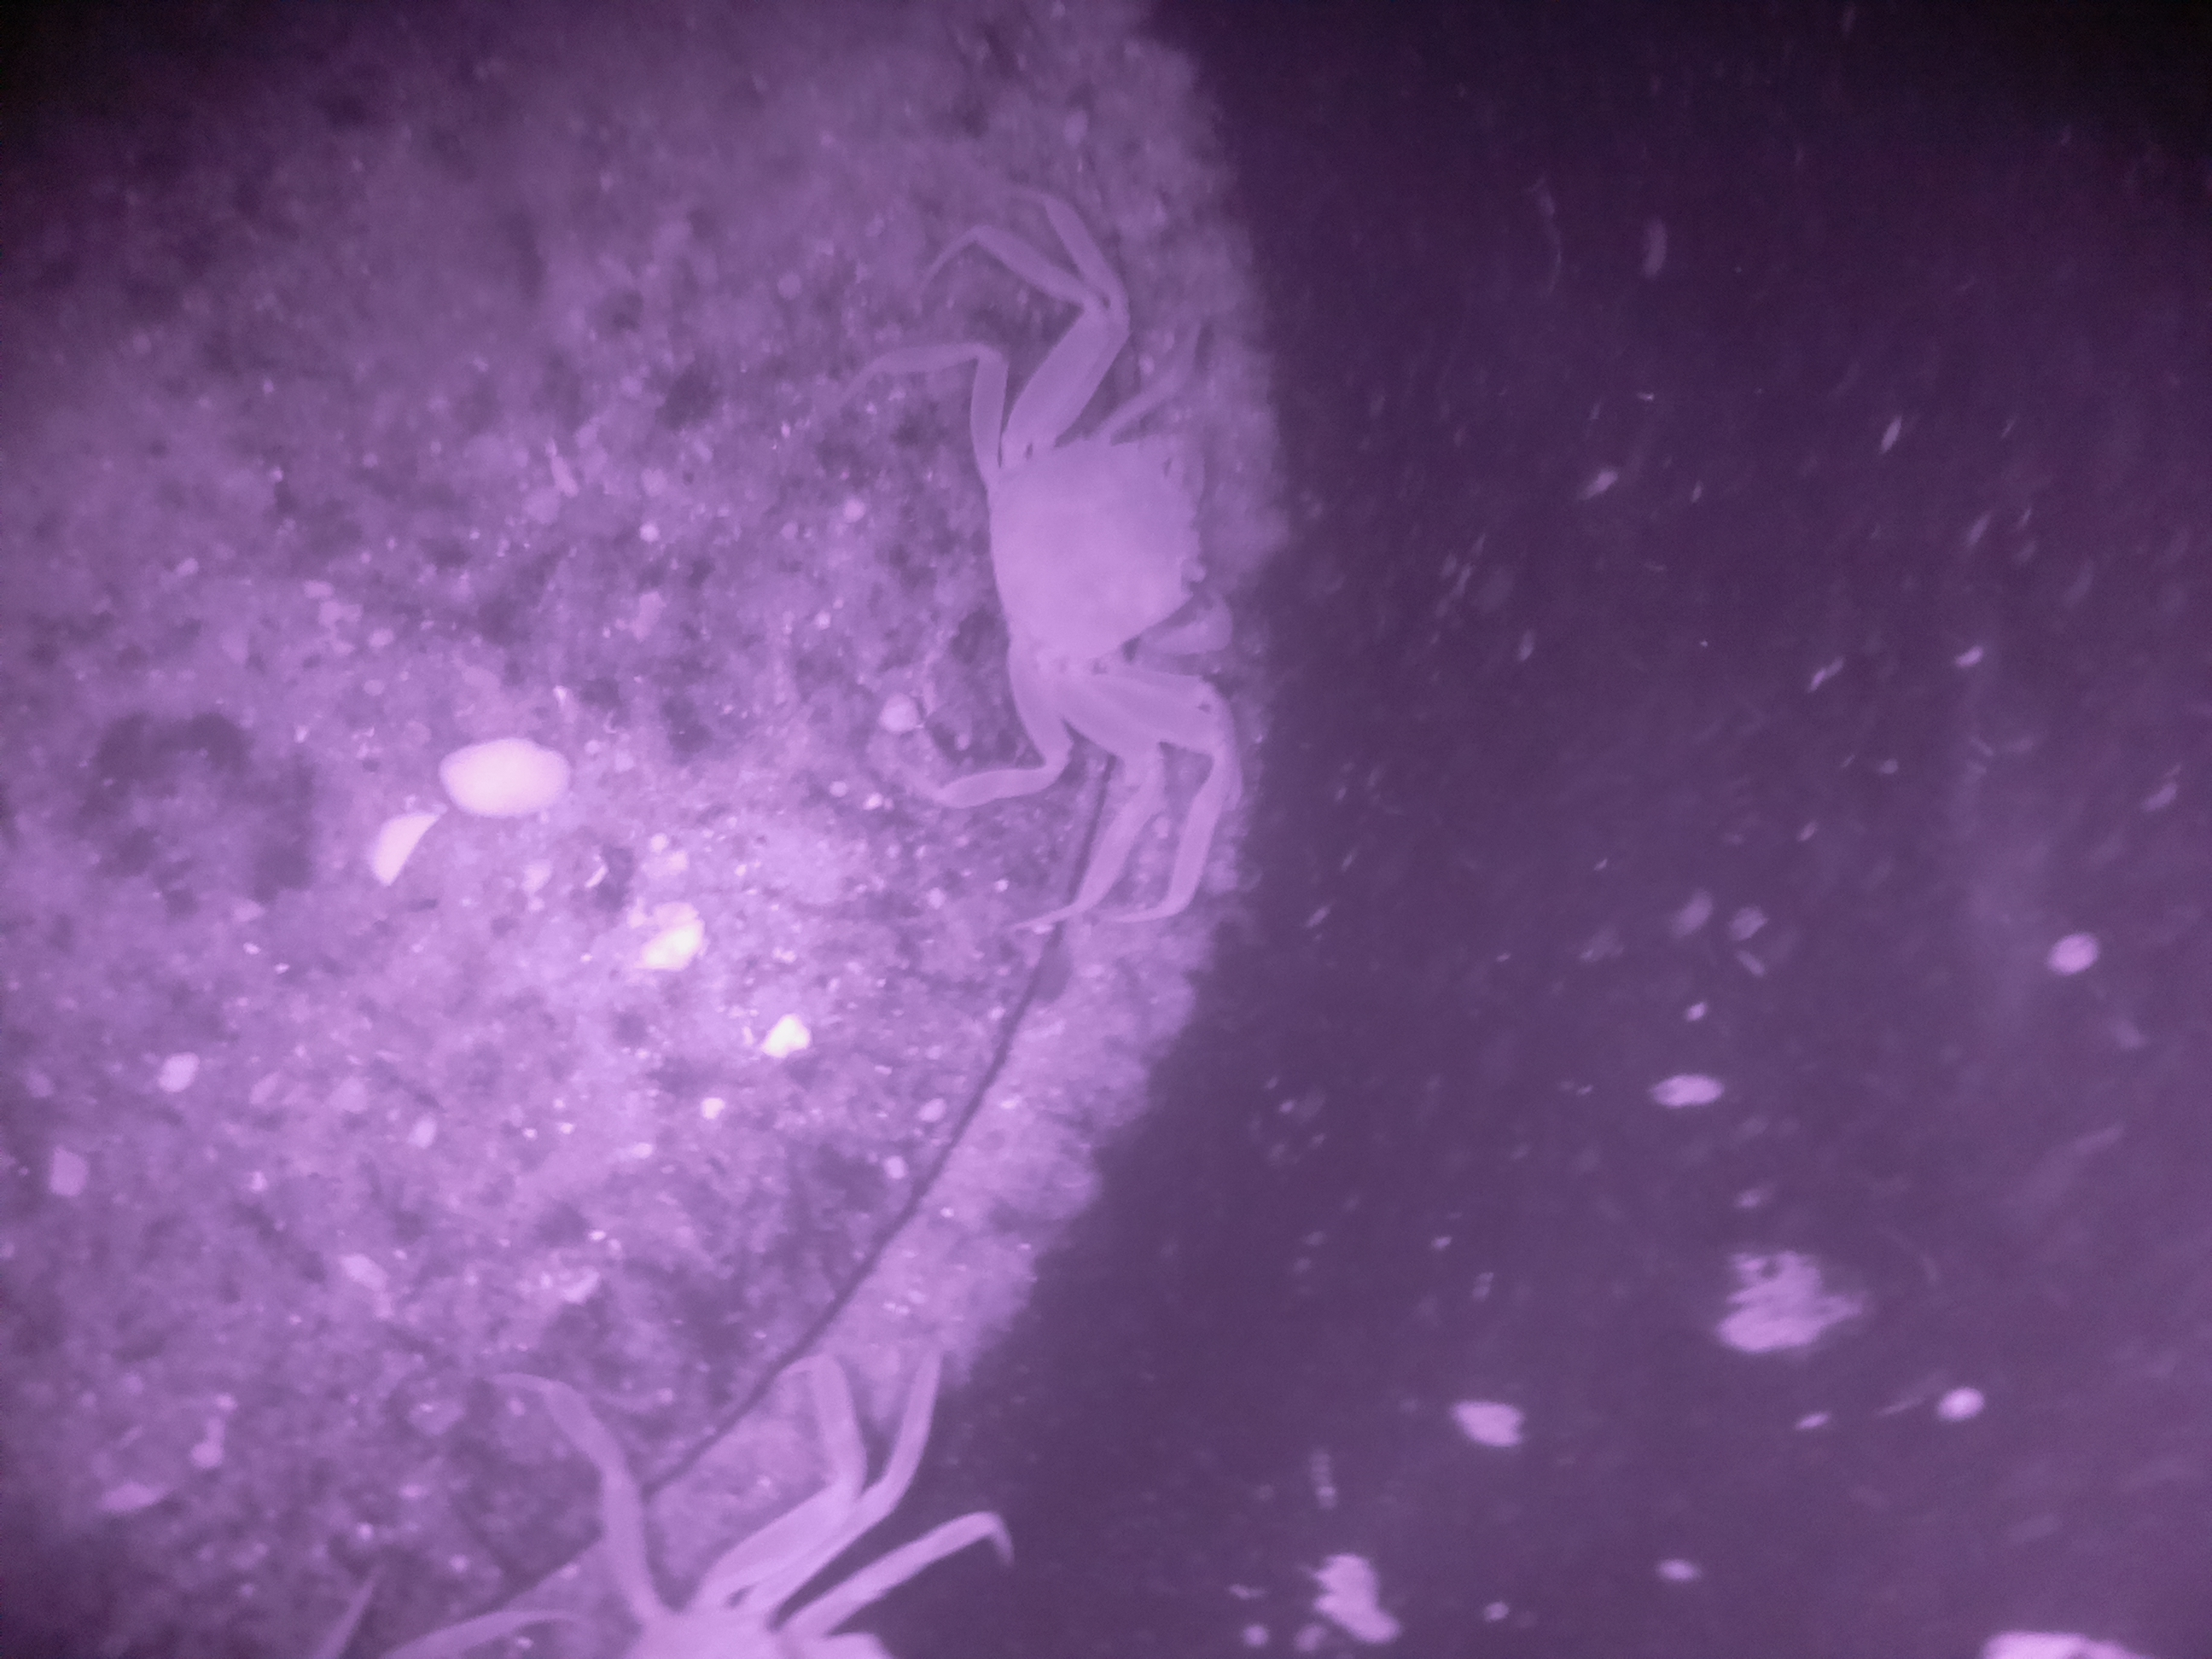Crab: (878, 308, 1317, 810)
